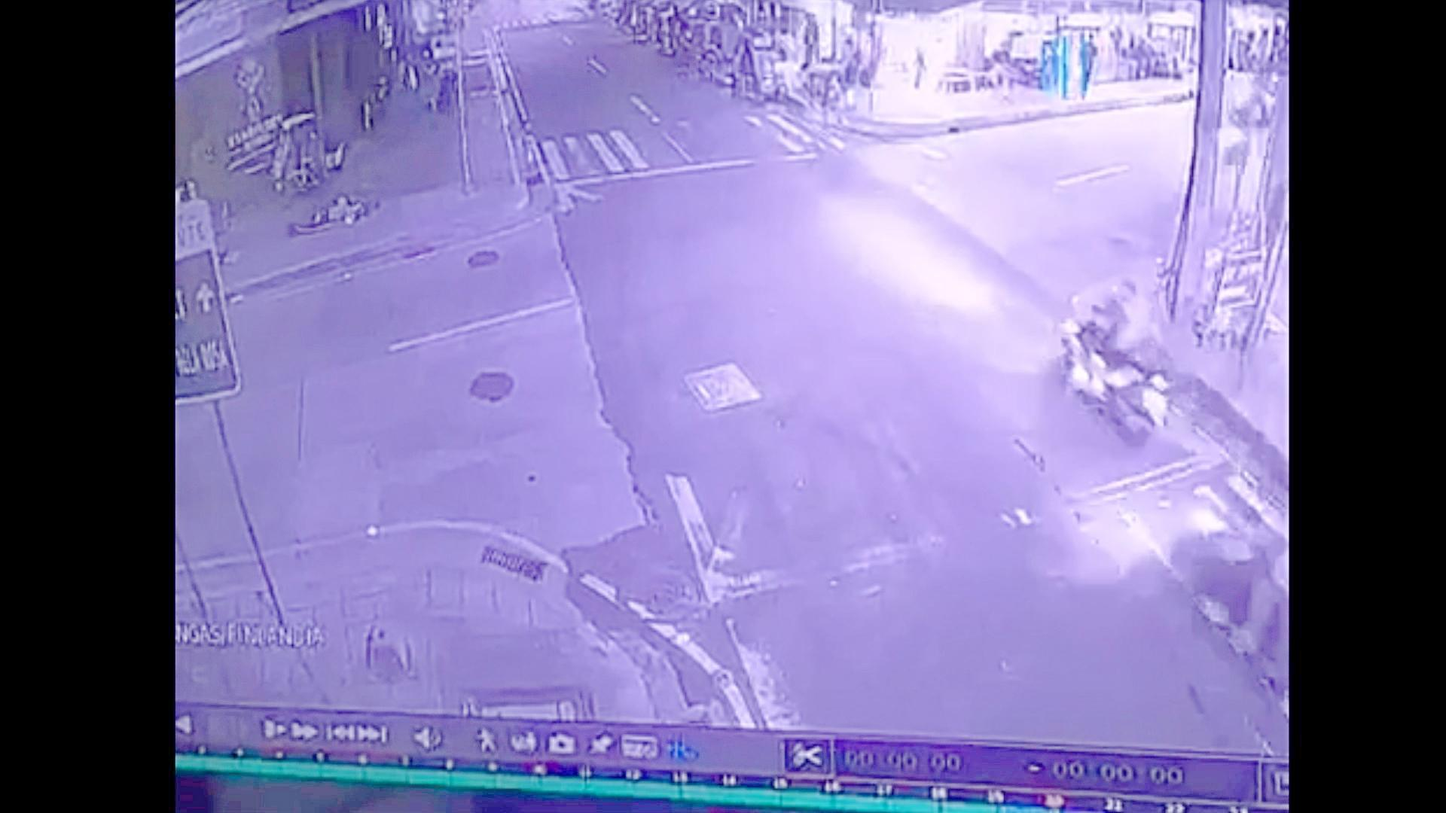Motor: (1047, 265, 1175, 443), (1189, 496, 1287, 694)
